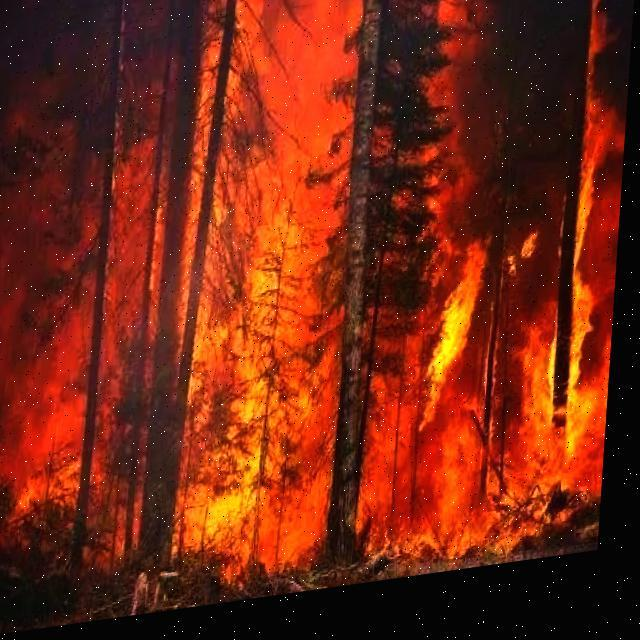Fire: (24, 0, 628, 604)
